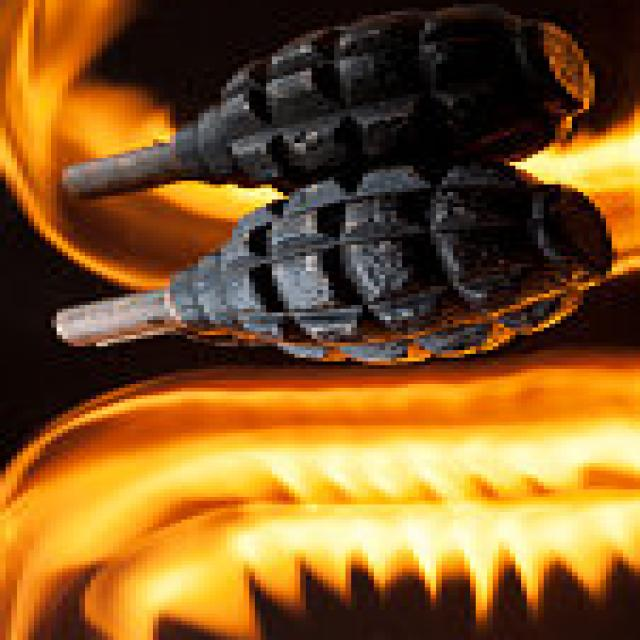grenade: (33, 161, 620, 373)
